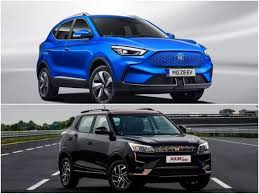XUV 400: (56, 106, 213, 193)
